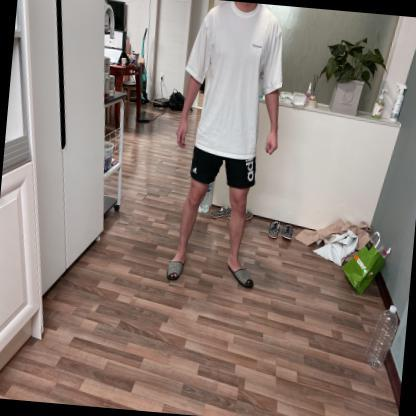no_safety-shoe: (223, 256, 256, 297), (163, 240, 189, 289)
